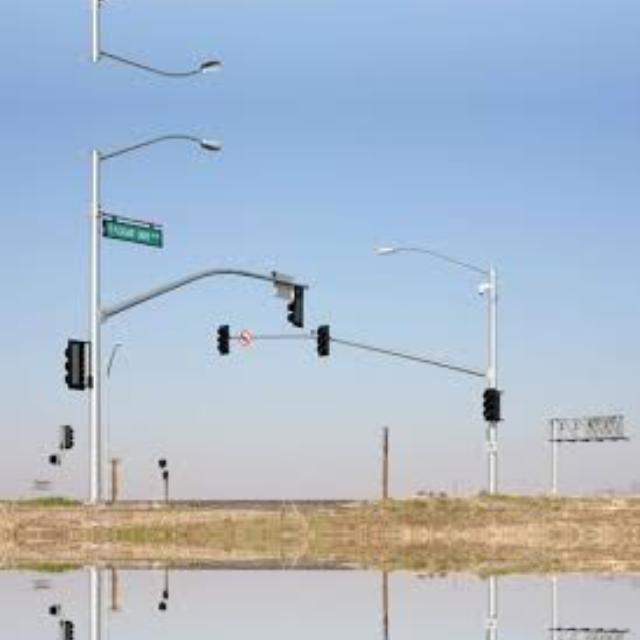obstacle: (58, 129, 144, 513), (453, 222, 535, 522), (453, 548, 535, 640), (58, 556, 143, 640), (58, 0, 143, 81)
